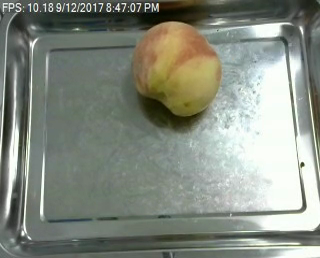Peach: (131, 19, 221, 117)
